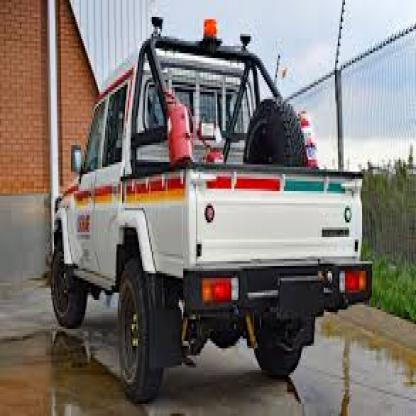light_vehicle: (35, 24, 374, 399)
